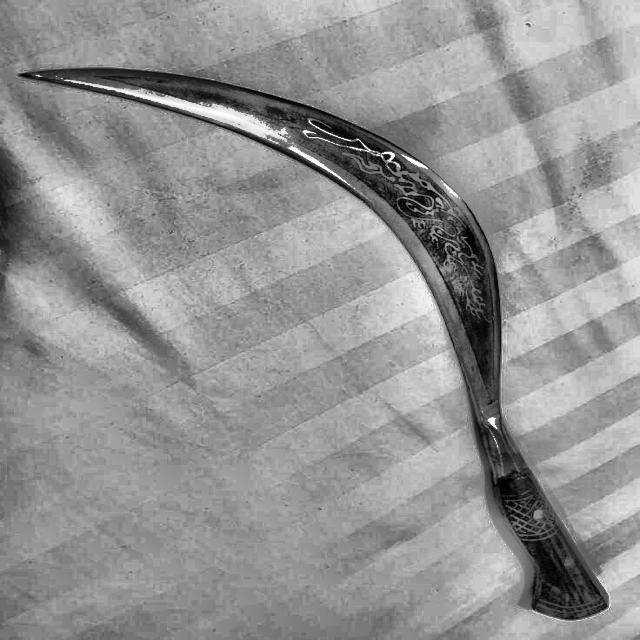celurit: (1, 44, 627, 632)
